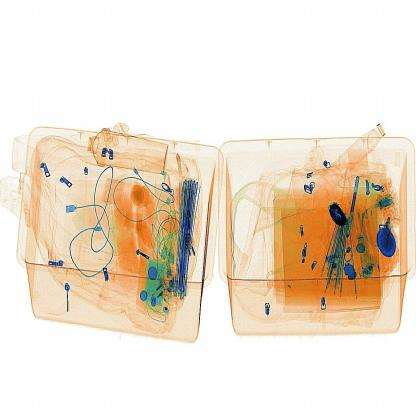scissors: (318, 193, 356, 240)
